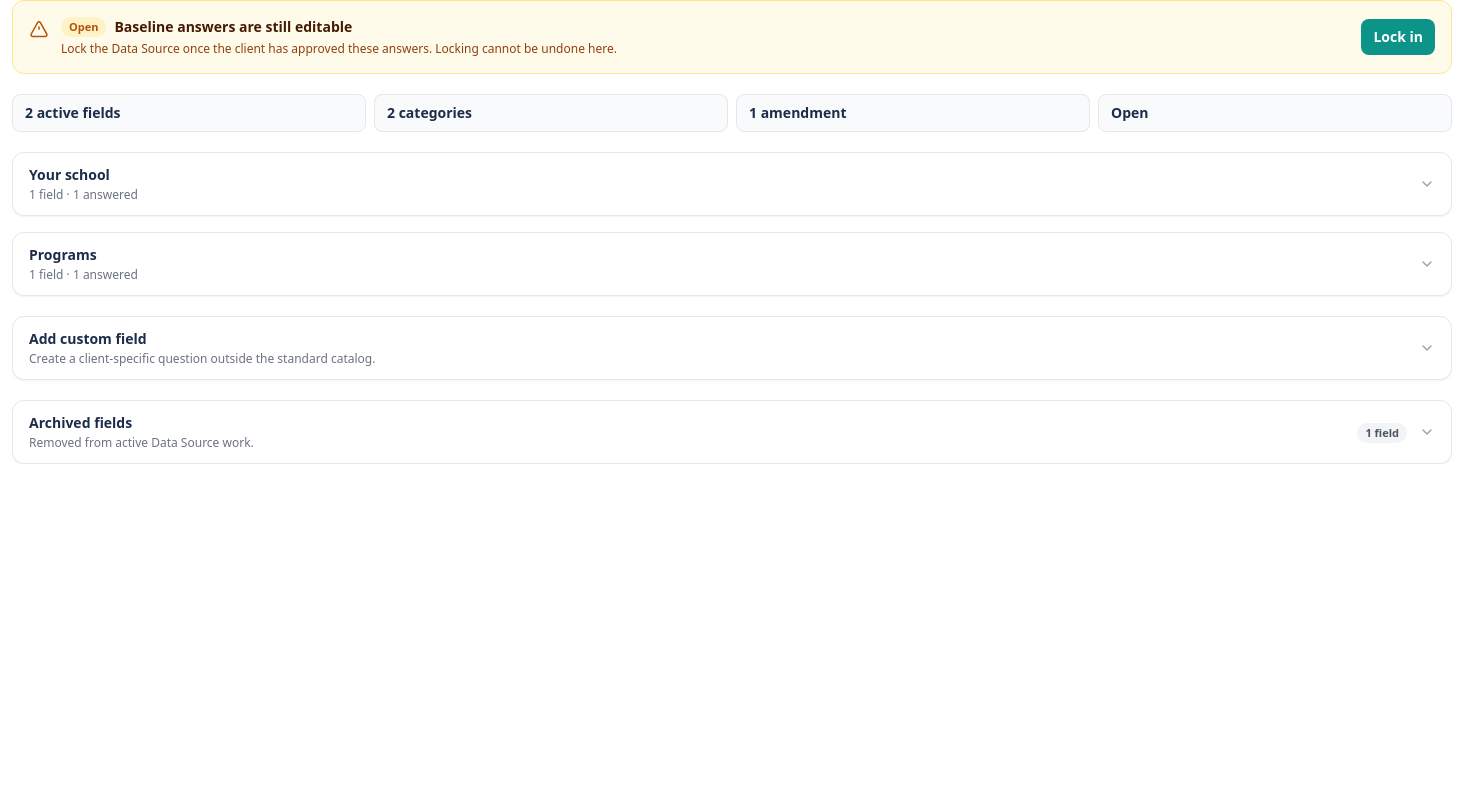
Scenario: DataSourceTab › summarizes active work and moves archived fields into a disclosure
This screenshot has width=1464, height=810.
Expected: the text "2 active fields" is shown, 25,103 -> 121,122
Expected: the text "2 categories" is shown, 387,103 -> 472,122
Click the button "Archived fields": (81, 422) 13,401 -> 1451,463
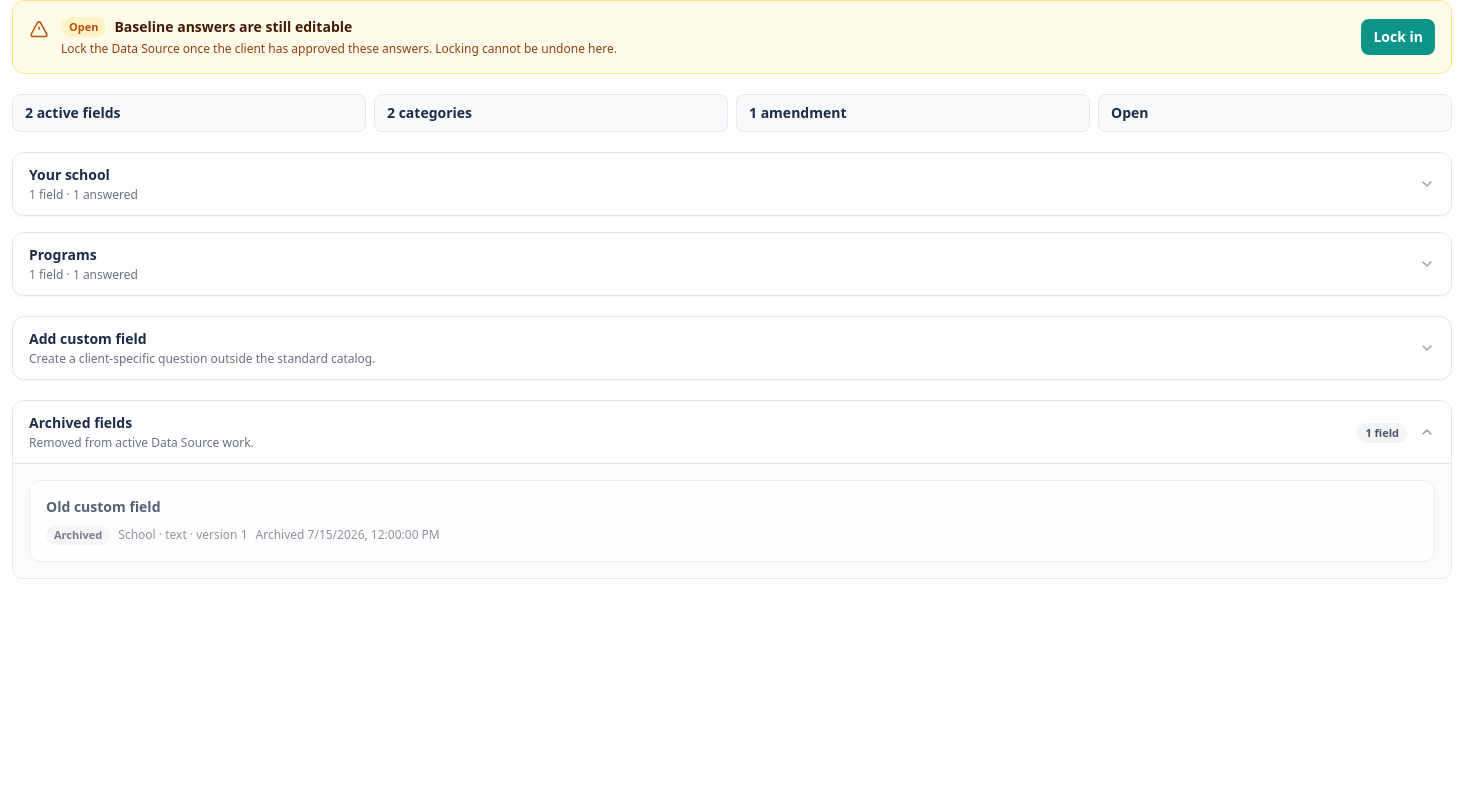
Now the heading "Old custom field" is shown, box 46,497 -> 160,516
